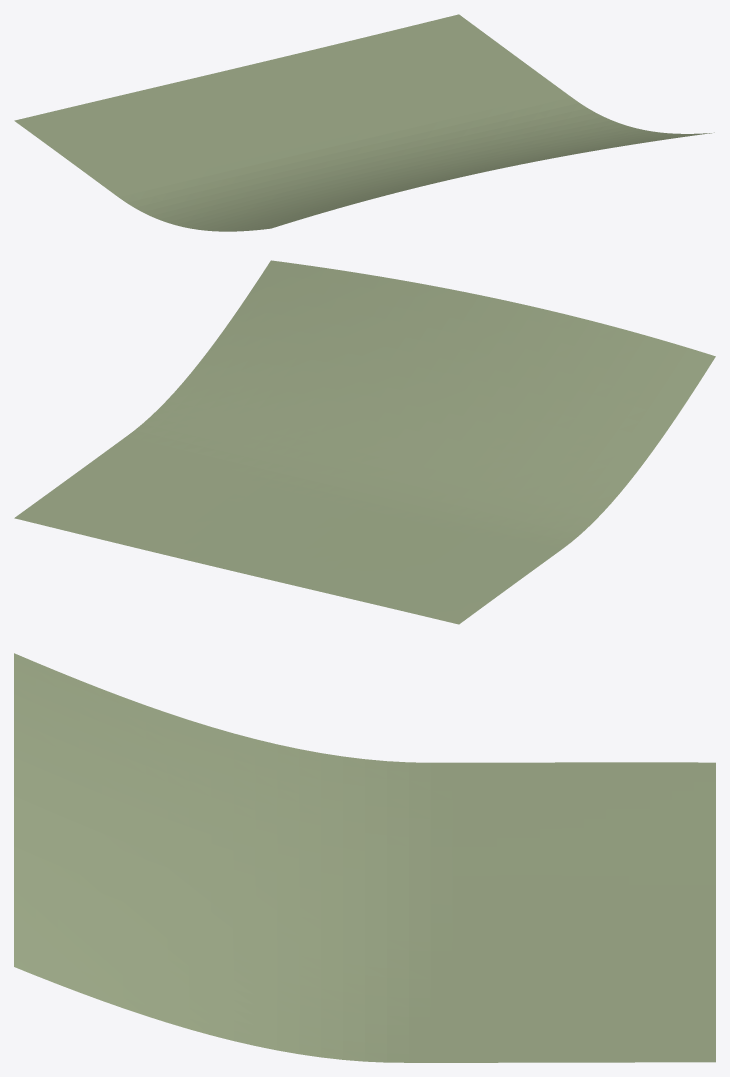
The model's file is desert-26-17.glb.
The picture shows the model from 3 angles, top to bottom: view 1: azimuth 30°, elevation 25°; view 2: azimuth 150°, elevation 25°; view 3: azimuth 270°, elevation 25°; orthographic projection. The views are drawn at different scales.
Visible parts, largest first — view 1: desert-26-17; view 2: desert-26-17; view 3: desert-26-17.
Boxes of the visible parts, left/top/right/bottom form: desert-26-17: left=14, top=14, right=714, bottom=231; desert-26-17: left=14, top=260, right=715, bottom=624; desert-26-17: left=14, top=653, right=715, bottom=1062.
Bounding box in the file's own units: 512 × 97.03 × 512.
